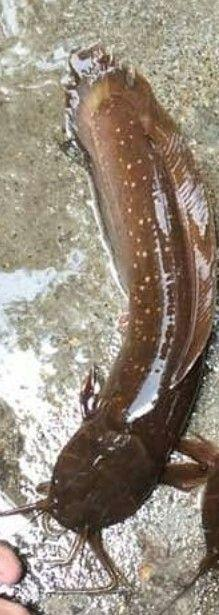Catfish: (37, 43, 215, 565)
